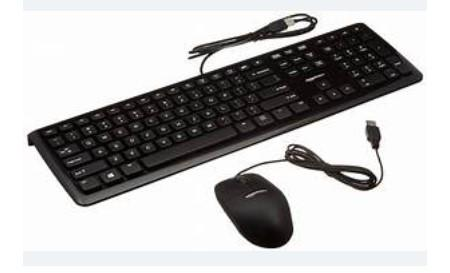Keyboard: (27, 23, 424, 208)
